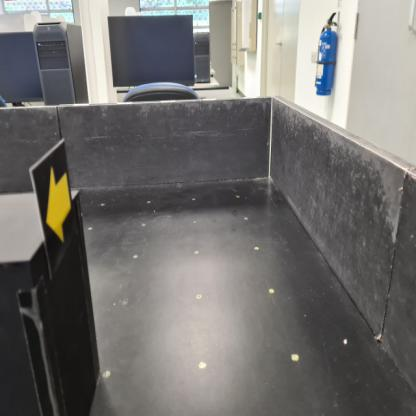right: (30, 137, 79, 278)
